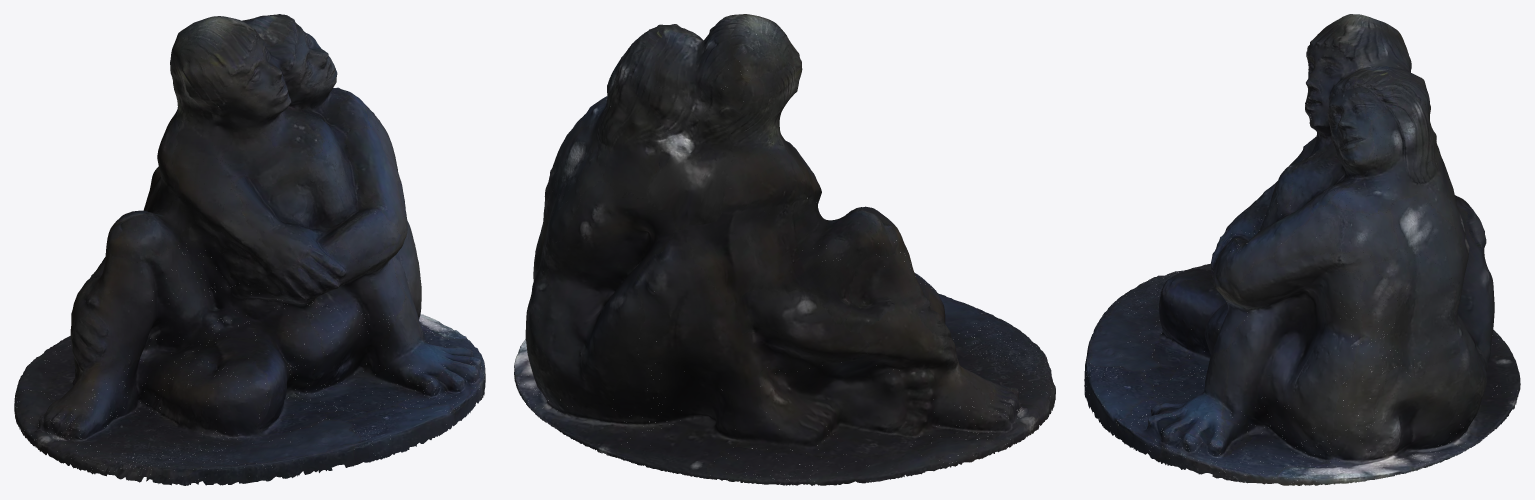
File: preview.glb
3 renders of one model, left to right at view 1: azimuth 30°, elevation 25°; view 2: azimuth 150°, elevation 25°; view 3: azimuth 270°, elevation 25°, orthographic. The views are drawn at different scales.
Parts seen in each view (by area): view 1: Object_7, Object_32, Object_26; view 2: Object_7, Object_32, Object_26; view 3: Object_32, Object_7, Object_26.
Boxes of the visible parts, x1,y1,x2,y2 form: Object_7: (14,16,466,474); Object_32: (57,14,485,485); Object_26: (18,14,471,485); Object_7: (514,14,1055,485); Object_32: (514,16,1055,478); Object_26: (530,24,992,459); Object_32: (1084,26,1520,484); Object_7: (1084,14,1513,485); Object_26: (1140,34,1517,456).
Bounding box in the file's own units: 12.87 × 10.06 × 10.96.
Materials: 3 (3 with a texture image).
